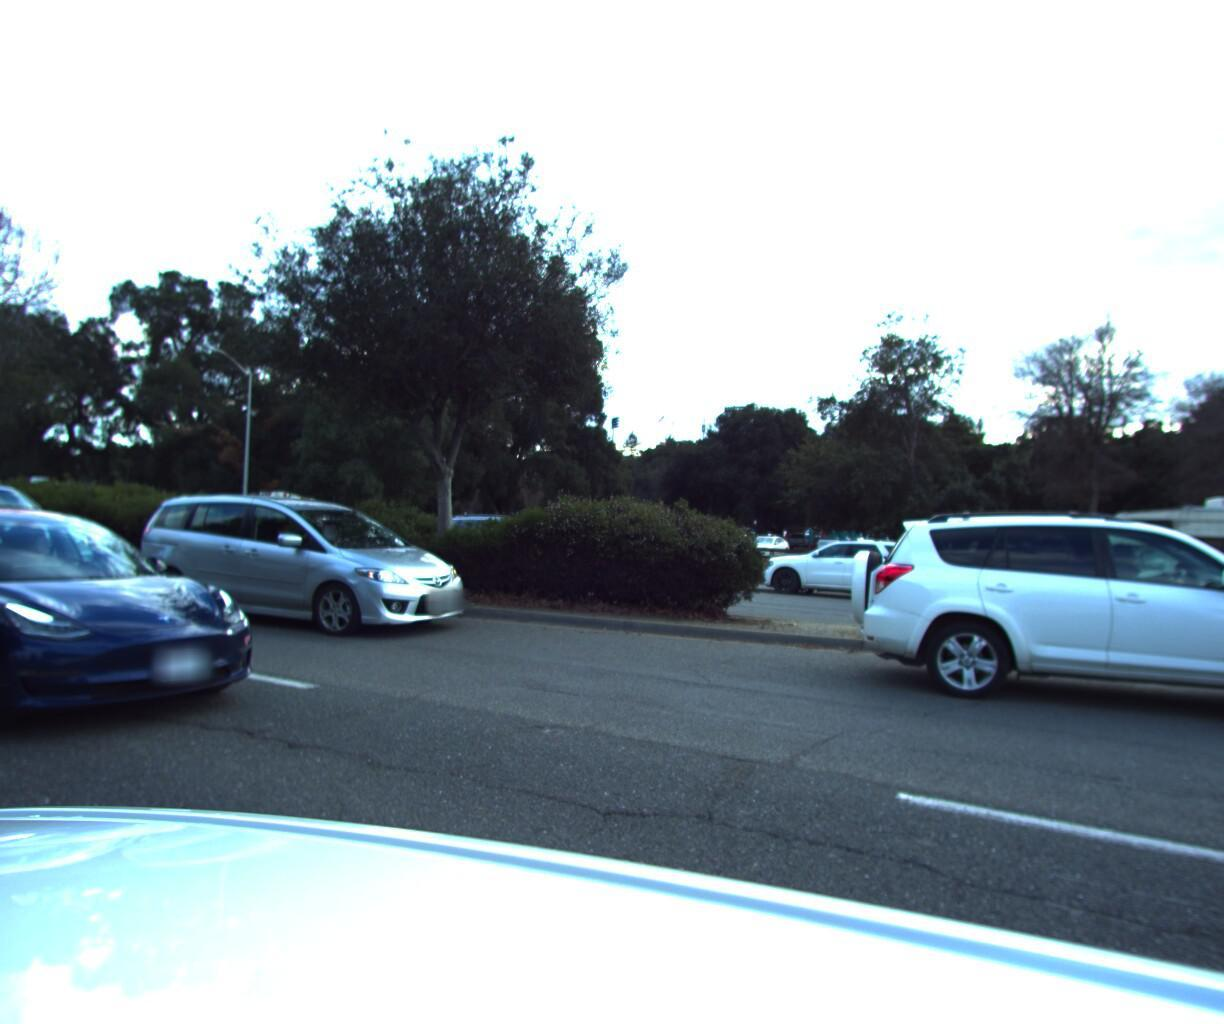car: (804, 500, 1224, 751), (0, 494, 290, 772), (117, 483, 481, 643), (389, 504, 579, 584), (756, 530, 947, 607), (0, 474, 107, 595)
other_vehicle: (1068, 484, 1224, 653), (172, 485, 330, 556), (0, 470, 99, 544)
